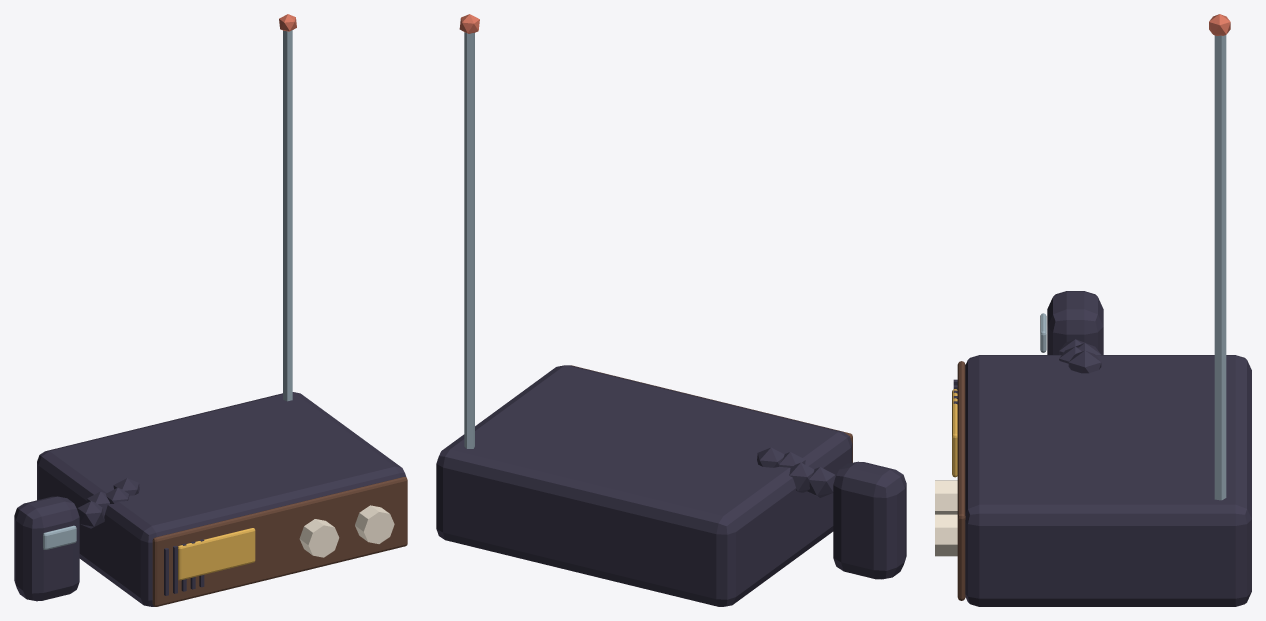
The model's file is cb_radio.glb.
3 renders of one model, left to right at view 1: azimuth 30°, elevation 25°; view 2: azimuth 150°, elevation 25°; view 3: azimuth 270°, elevation 25°, orthographic. The views are drawn at different scales.
Visible parts, largest first — view 1: cb_radio; view 2: cb_radio; view 3: cb_radio.
Part boxes in pixels (x1,y1,x2,y2): cb_radio: (14, 14, 407, 606); cb_radio: (436, 14, 906, 606); cb_radio: (935, 14, 1251, 606).
Size of the model in its own units: 0.315 by 0.403 by 0.1975.
